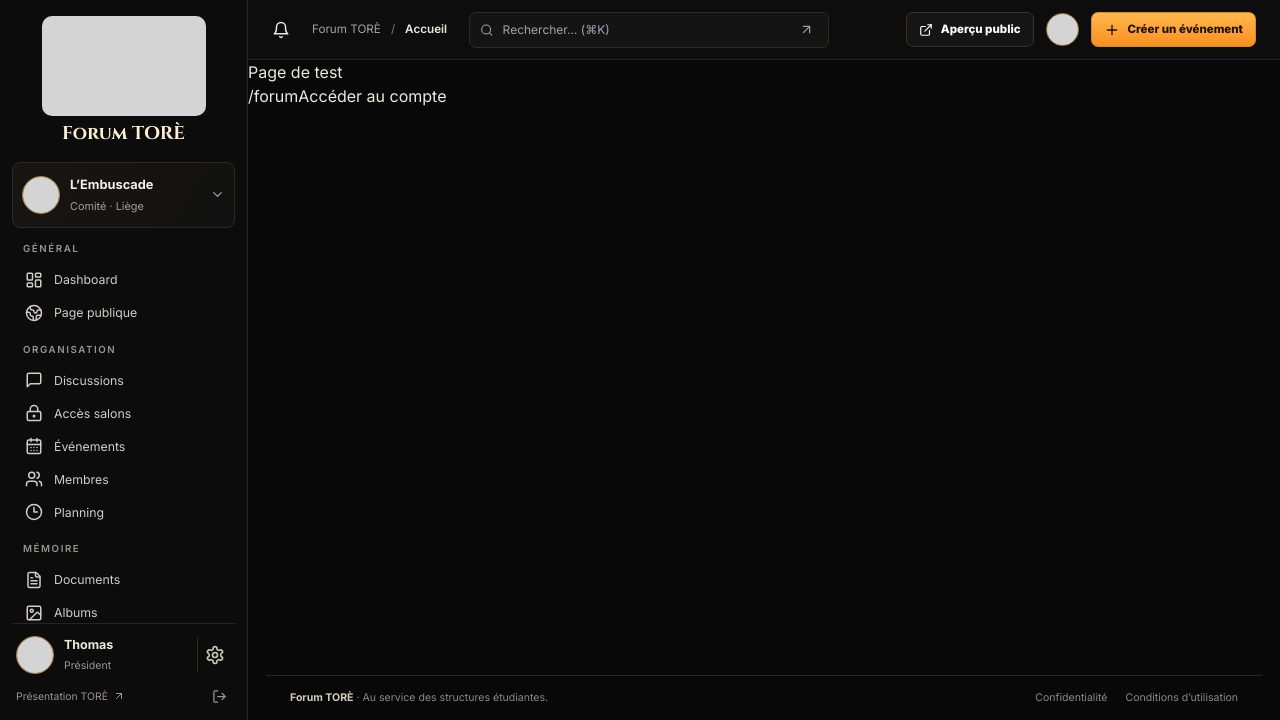
Test: Forum shared navigation › switches all committee links, logo and permissions together, and remembers the choice
Later steps or results of the test are not shown.
Press Enter in the button with aria-label "Changer de structure", box x1=12 y1=162 x2=235 y2=228
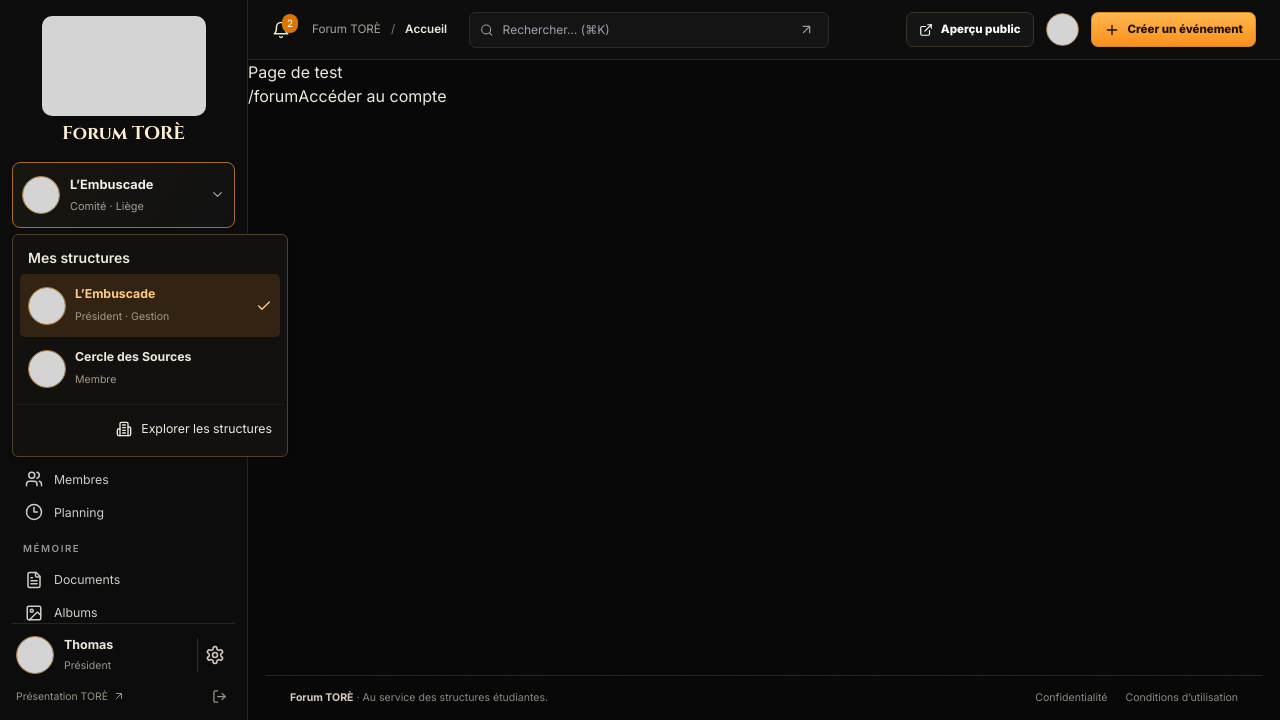
Click the menu item "Cercle des Sources Membre" at (47,368), box x1=28 y1=349 x2=191 y2=388
(page scrolled)
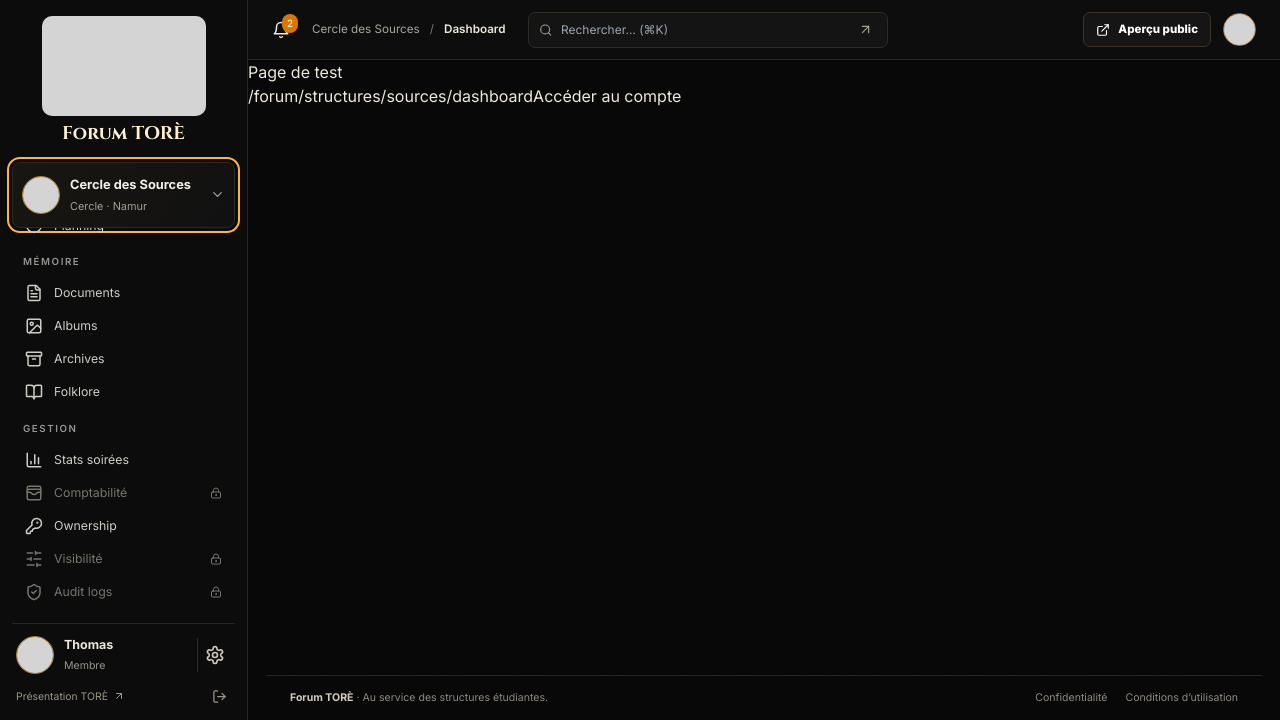
Result: the text with test id "route" reads "/forum/structures/sources/dashboard" at x1=248 y1=86 x2=533 y2=106
Result: the button with aria-label "Changer de structure" shows "Cercle des Sources" at x1=12 y1=162 x2=235 y2=228
Result: the link "Créer un événement" is gone
